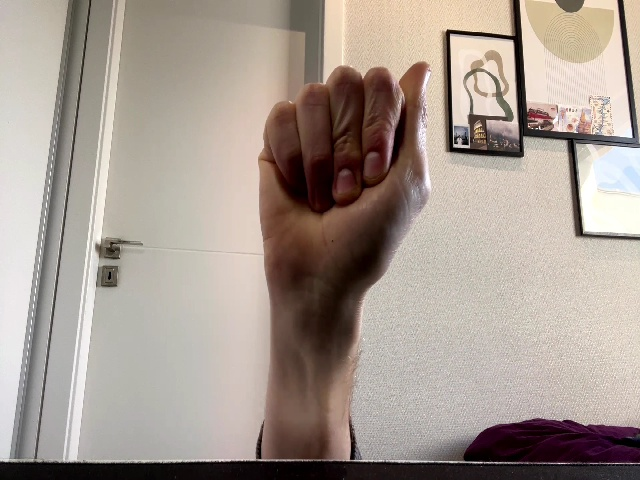A: (258, 62, 433, 288)
